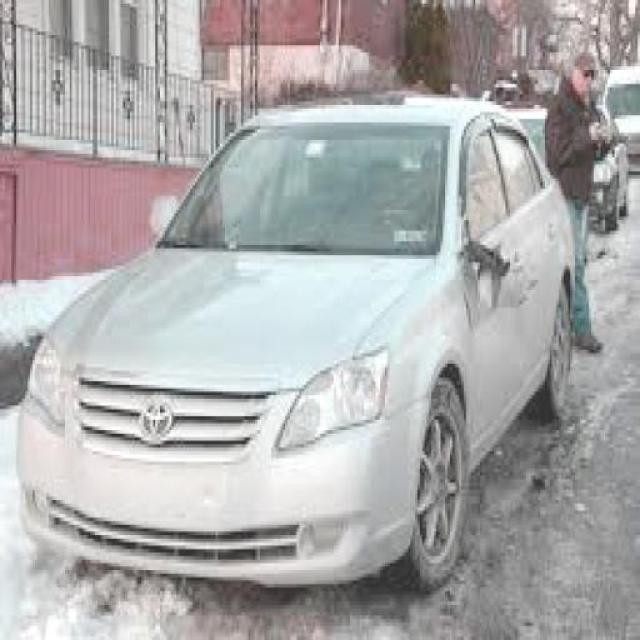Car-Damage: (453, 220, 546, 329)
